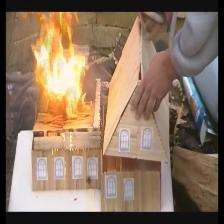fire: (37, 16, 86, 120)
